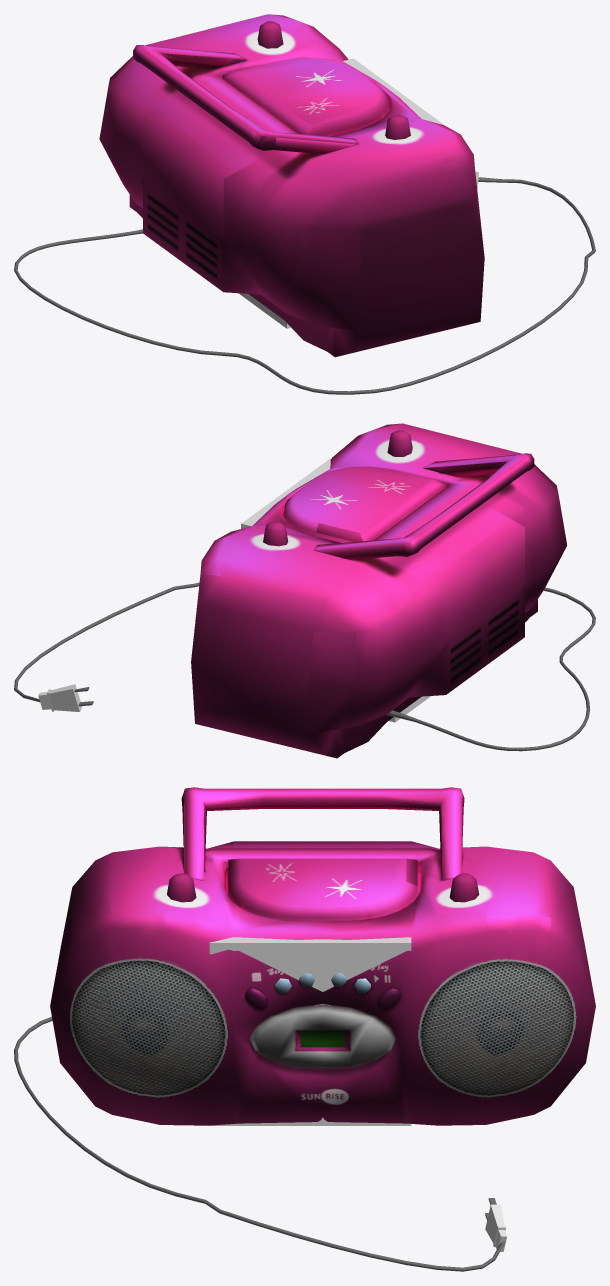
File: pink_boombox_edit_outlet_line.fbx
3 views of the same model, one above another, from view 1: azimuth 30°, elevation 25°; view 2: azimuth 150°, elevation 25°; view 3: azimuth 270°, elevation 25° (orthographic). The views are drawn at different scales.
Visible parts, largest first — view 1: ts_ekt_boombox, Cube; view 2: ts_ekt_boombox, Cube; view 3: ts_ekt_boombox, Cube.
Boxes of the visible parts, x1=… form: ts_ekt_boombox: x1=14, y1=14, x2=595, y2=394; Cube: x1=239, y1=58, x2=444, y2=328; ts_ekt_boombox: x1=14, y1=423, x2=595, y2=758; Cube: x1=241, y1=458, x2=430, y2=722; ts_ekt_boombox: x1=14, y1=787, x2=595, y2=1271; Cube: x1=209, y1=937, x2=411, y2=1125.
Bounding box in the file's own units: 688 × 297 × 576.
